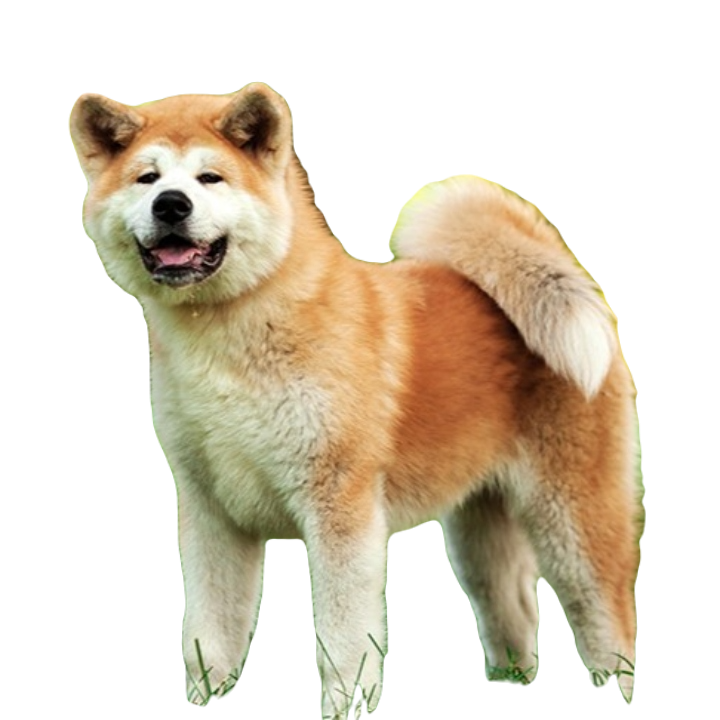Dog: (51, 80, 643, 719)
